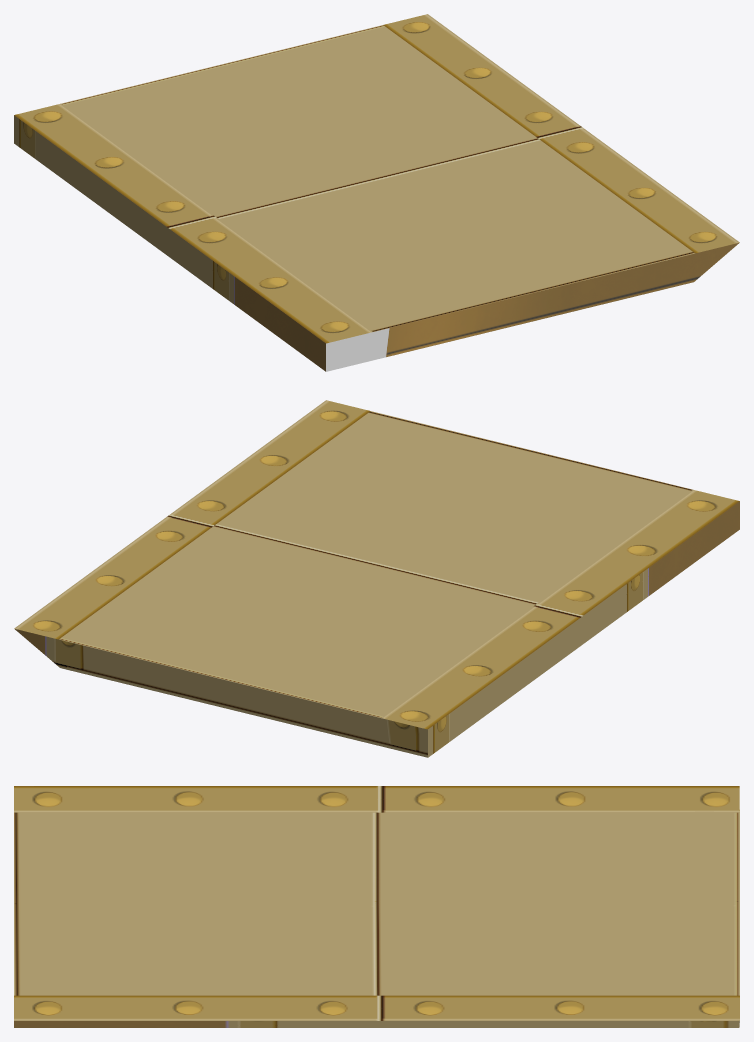
The model's file is Big_Upperfloor_E_TOP.fbx.
The picture shows the model from 3 angles, top to bottom: view 1: azimuth 30°, elevation 25°; view 2: azimuth 150°, elevation 25°; view 3: azimuth 270°, elevation 25°; orthographic projection. The views are drawn at different scales.
Parts seen in each view (by area): view 1: Big_Upperfloor_E_TOP; view 2: Big_Upperfloor_E_TOP; view 3: Big_Upperfloor_E_TOP.
Part boxes in pixels (<box>): Big_Upperfloor_E_TOP: <box>14,14,739,371</box>; Big_Upperfloor_E_TOP: <box>14,400,739,757</box>; Big_Upperfloor_E_TOP: <box>14,786,739,1027</box>.
Size of the model in its own units: 3.06 by 0.2007 by 4.
